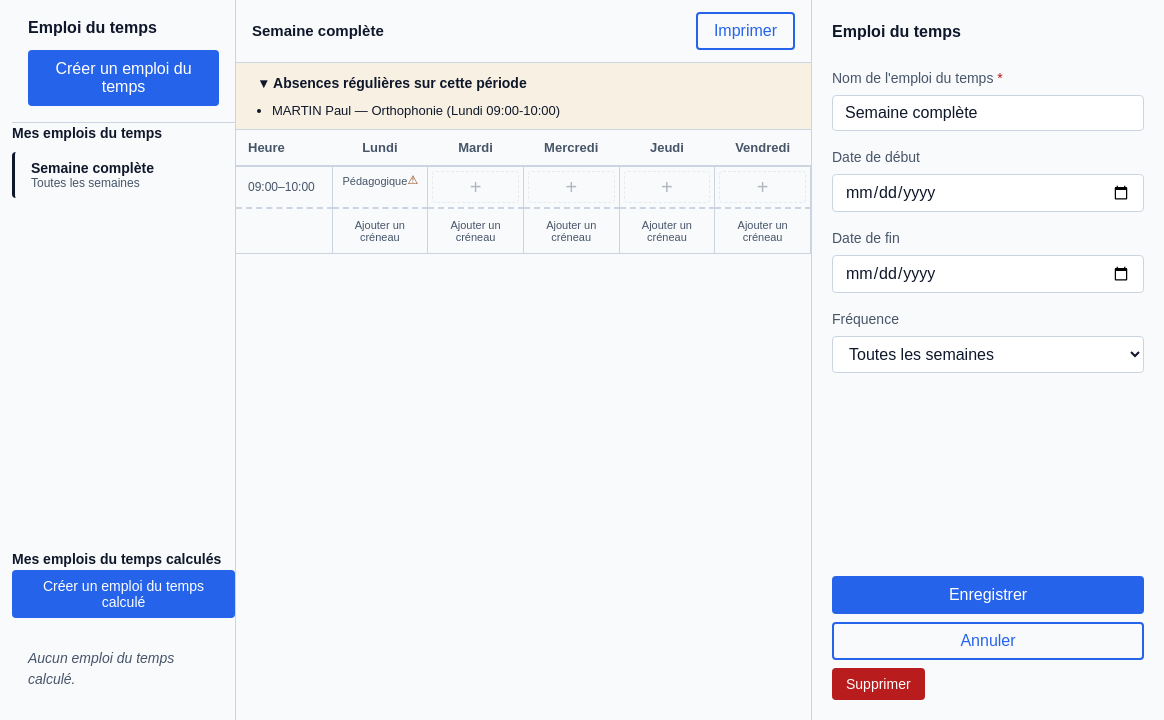
Scenario: EcranEmploiDuTempsComponent › absencesPertinentes › replie puis déplie la liste des absences via le bouton de bascule
Expected: the list item "MARTIN Paul — Orthophonie (Lundi 09:00-10:00)" is shown, [272, 103, 560, 118]
Click the button with id "btnBasculerAbsences": {"x": 393, "y": 83} [252, 71, 535, 95]
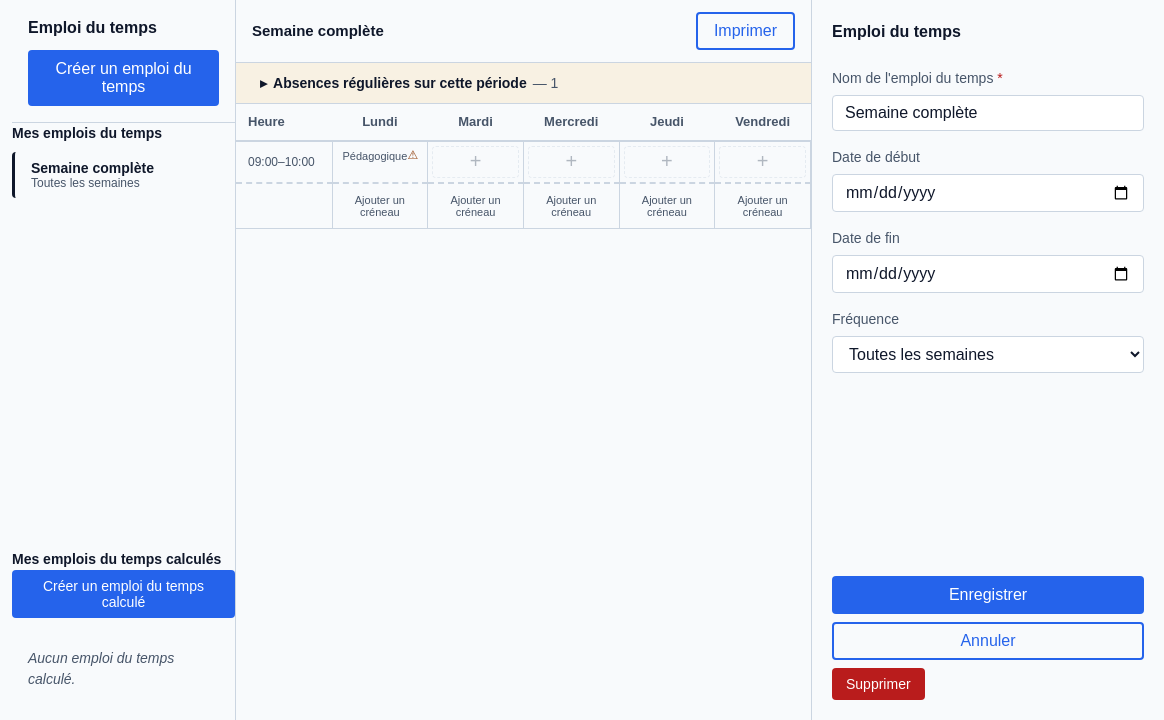
Now the list with id "zoneAbsencesPertinentes" is gone
Click the button with id "btnBasculerAbsences": {"x": 409, "y": 83} [252, 71, 566, 95]
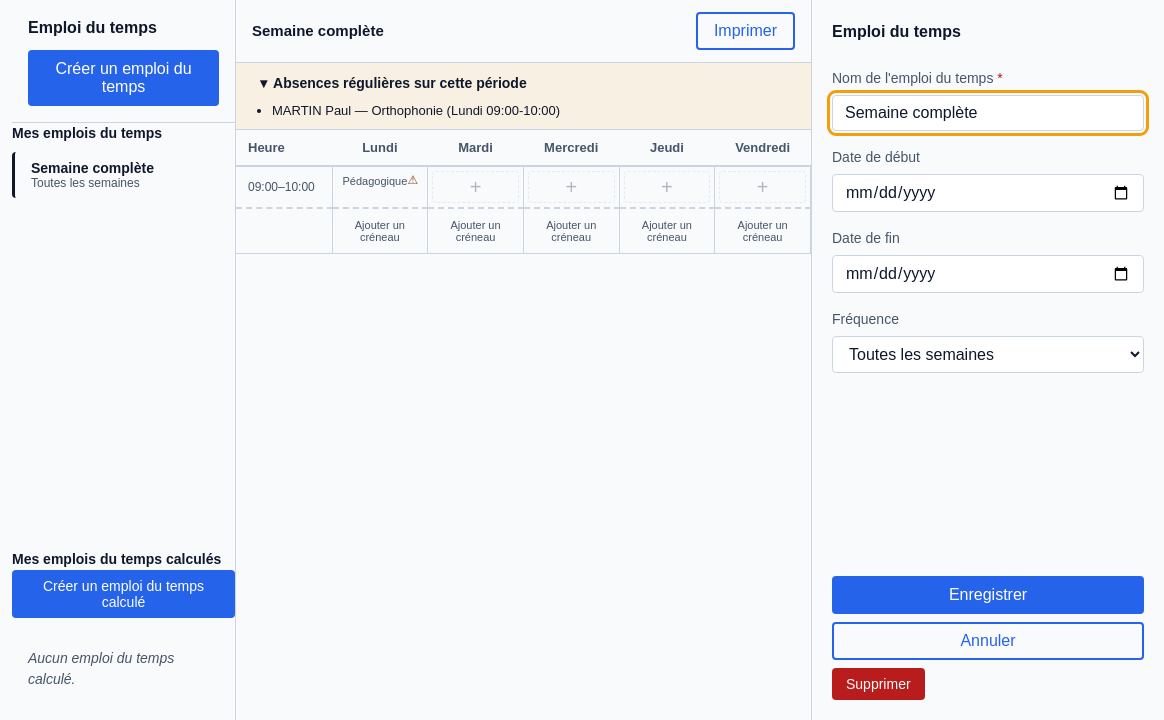
Now the list item "MARTIN Paul — Orthophonie (Lundi 09:00-10:00)" is shown, box [272, 103, 560, 118]
